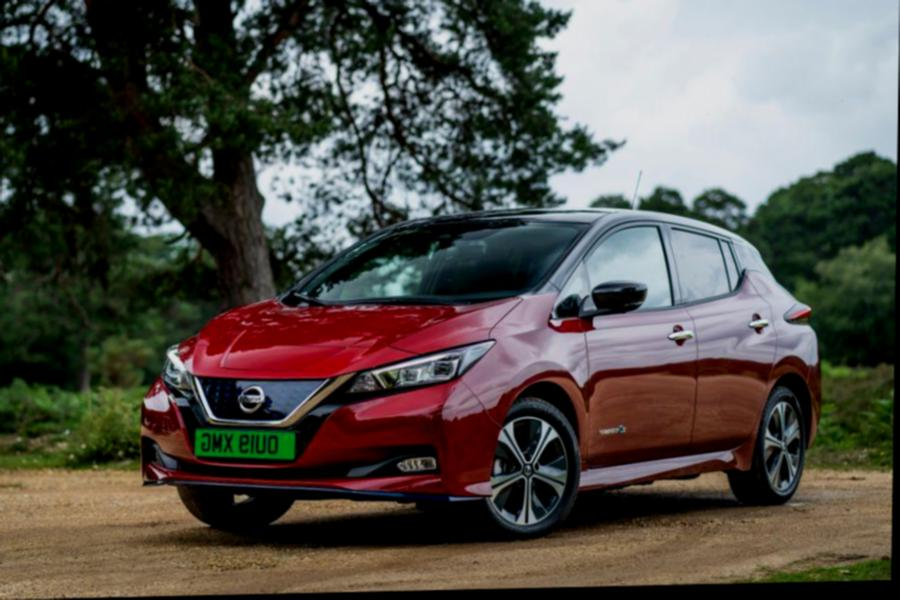License_Plate: (191, 424, 299, 464)
